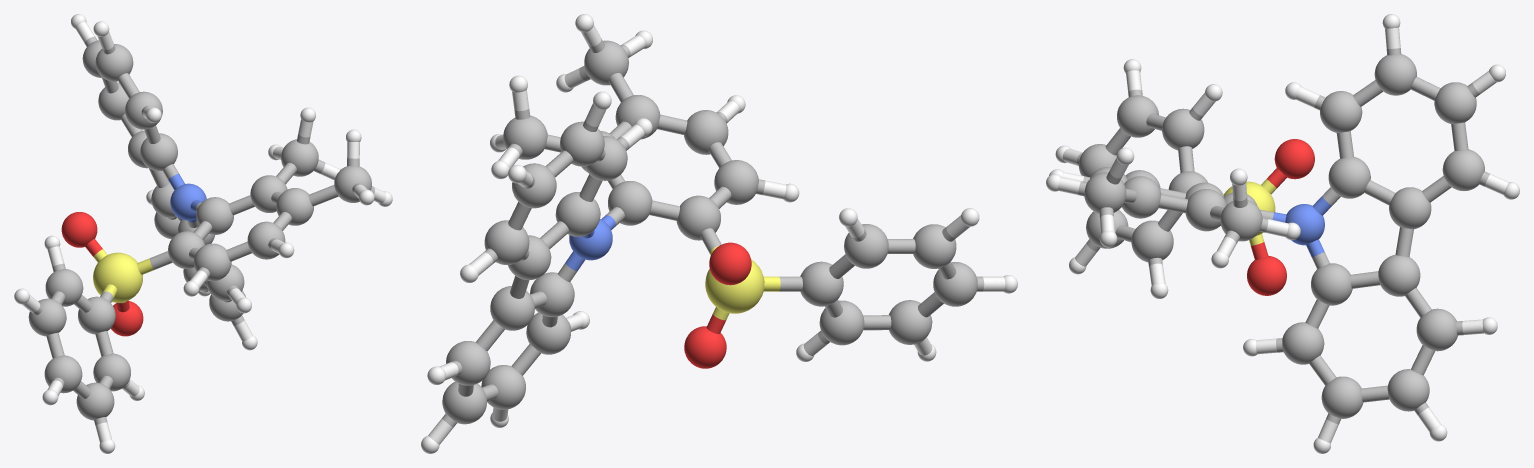
The picture shows the model from 3 angles, left to right: view 1: azimuth 30°, elevation 25°; view 2: azimuth 150°, elevation 25°; view 3: azimuth 270°, elevation 25°; orthographic projection. The views are drawn at different scales.
Parts seen in each view (by area): view 1: Carbon_ball (×24), Oxygen_ball (×2), Sulfur_ball, Nitrogen_ball; view 2: Carbon_ball (×25), Oxygen_ball (×2), Sulfur_ball, Nitrogen_ball; view 3: Carbon_ball (×22), Oxygen_ball (×2), Nitrogen_ball, Sulfur_ball.
Boxes of the visible parts, x1,y1,x2,y2 form: Carbon_ball (×24): (28,40,371,420); Oxygen_ball (×2): (61,212,143,336); Sulfur_ball: (93,252,142,302); Nitrogen_ball: (170,183,206,220); Carbon_ball (×25): (442,40,977,424); Oxygen_ball (×2): (684,242,751,368); Sulfur_ball: (705,259,764,313); Nitrogen_ball: (569,219,612,260); Carbon_ball (×22): (1078,54,1484,418); Oxygen_ball (×2): (1247,139,1314,295); Nitrogen_ball: (1285,204,1324,245); Sulfur_ball: (1224,181,1275,235).
Size of the model in its own units: 10.18 by 8.68 by 9.97.
